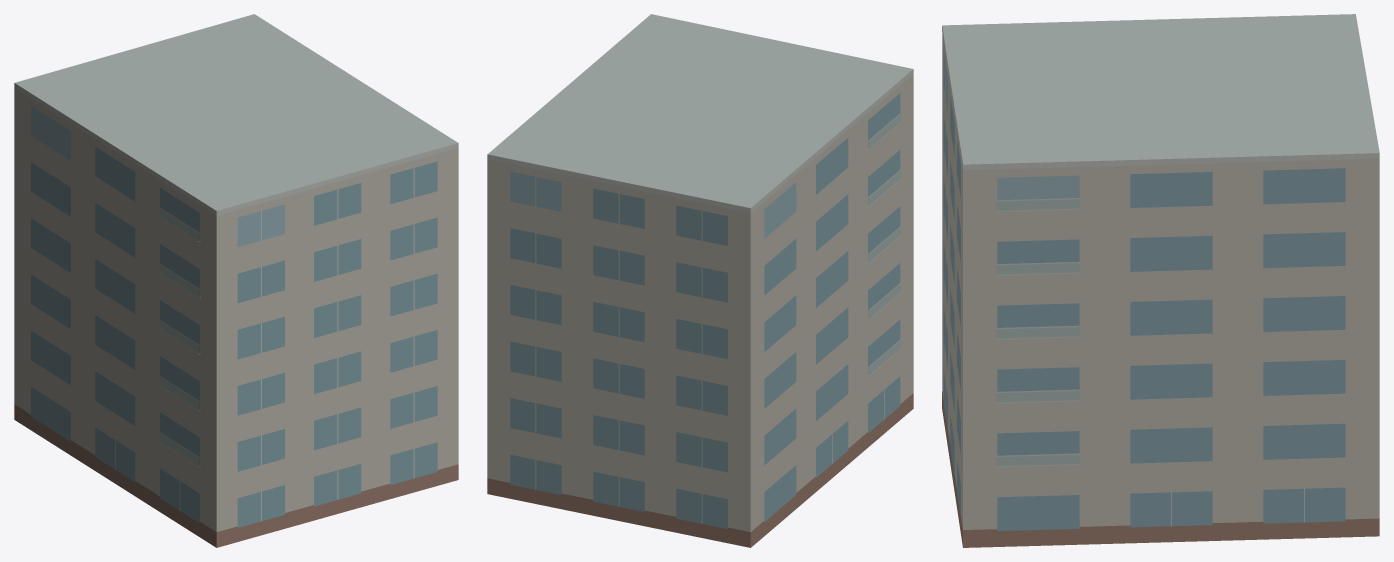
Rendered from survey-upis-32700527.glb.
The picture shows the model from 3 angles, left to right: view 1: azimuth 30°, elevation 25°; view 2: azimuth 150°, elevation 25°; view 3: azimuth 270°, elevation 25°; orthographic projection. The views are drawn at different scales.
Visible parts, largest first — view 1: survey-upis-32700527.tmp; view 2: survey-upis-32700527.tmp; view 3: survey-upis-32700527.tmp.
Part boxes in pixels (left/top/right/bottom): survey-upis-32700527.tmp: left=14, top=14, right=458, bottom=547; survey-upis-32700527.tmp: left=487, top=14, right=913, bottom=547; survey-upis-32700527.tmp: left=942, top=14, right=1379, bottom=547.
Size of the model in its own units: 14.22 by 16.85 by 17.45.
